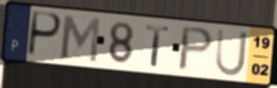8: (107, 20, 138, 65)
M: (59, 12, 102, 65)
P: (25, 10, 64, 60), (176, 25, 216, 73)
T: (145, 23, 172, 69)
U: (214, 27, 250, 78)
